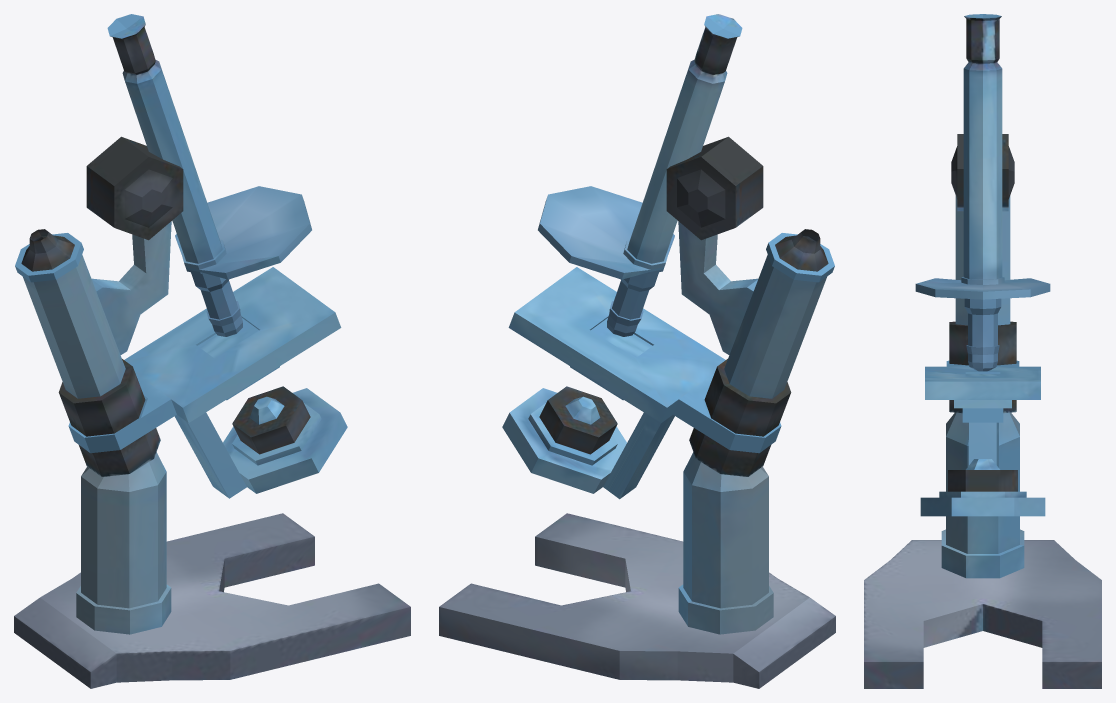
The model's file is micro.fbx.
3 views of the same model, side by side, from view 1: azimuth 30°, elevation 25°; view 2: azimuth 150°, elevation 25°; view 3: azimuth 270°, elevation 25° (orthographic). The views are drawn at different scales.
Parts seen in each view (by area): view 1: Microscope; view 2: Microscope; view 3: Microscope.
Boxes of the visible parts, x1=… form: Microscope: x1=14, y1=14, x2=410, y2=688; Microscope: x1=439, y1=14, x2=835, y2=688; Microscope: x1=864, y1=14, x2=1101, y2=688.
Size of the model in its own units: 235 by 429 by 160.
